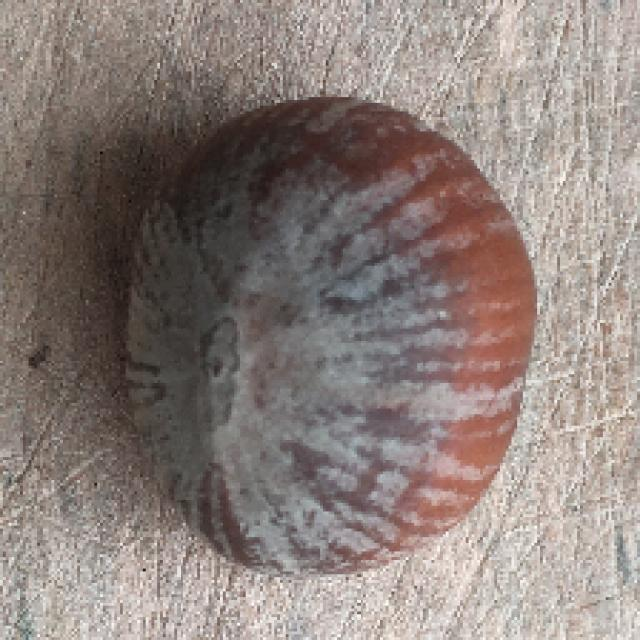qualityHazelnut: (118, 92, 535, 588)
